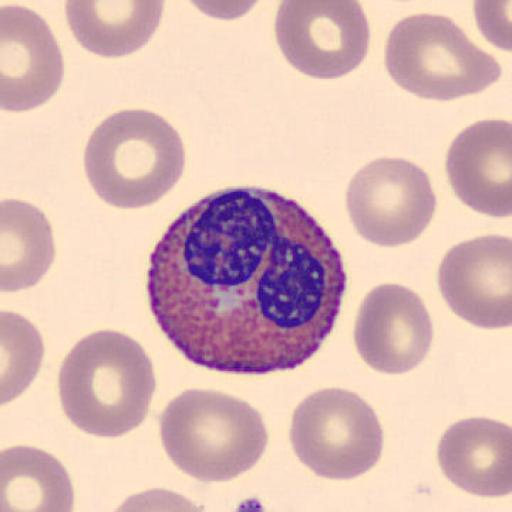Platelet: (229, 493, 269, 512)
RBC: (56, 327, 157, 440), (82, 106, 187, 212), (384, 10, 502, 104), (158, 387, 270, 485), (286, 386, 384, 483), (344, 154, 438, 249), (351, 282, 435, 378), (273, 1, 371, 81), (436, 232, 512, 332), (2, 2, 66, 114), (443, 117, 512, 220), (435, 414, 512, 499), (63, 1, 166, 60), (1, 196, 57, 293), (1, 441, 76, 512), (1, 308, 45, 407), (106, 485, 210, 512), (472, 0, 512, 54), (185, 0, 272, 21)
WBC: (143, 184, 348, 376)
